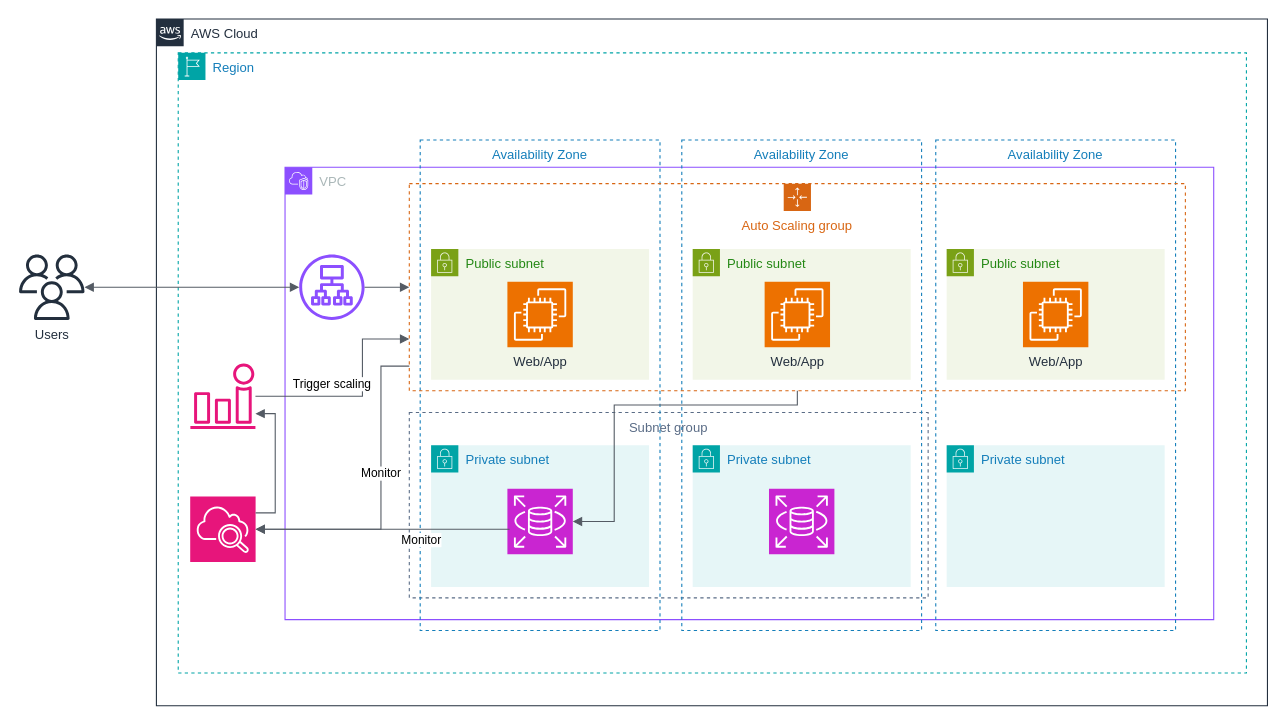
The diagram is 1286 pixels wide and 725 high, and some of its shapes have lost their labels. The centre of each missing label's shape, as x and y in pixels:
Alarm: pixel 222 395
ALB: pixel 331 286
CloudWatch: pixel 222 528
Primary DB: pixel 539 521
Standby DB: pixel 801 521
